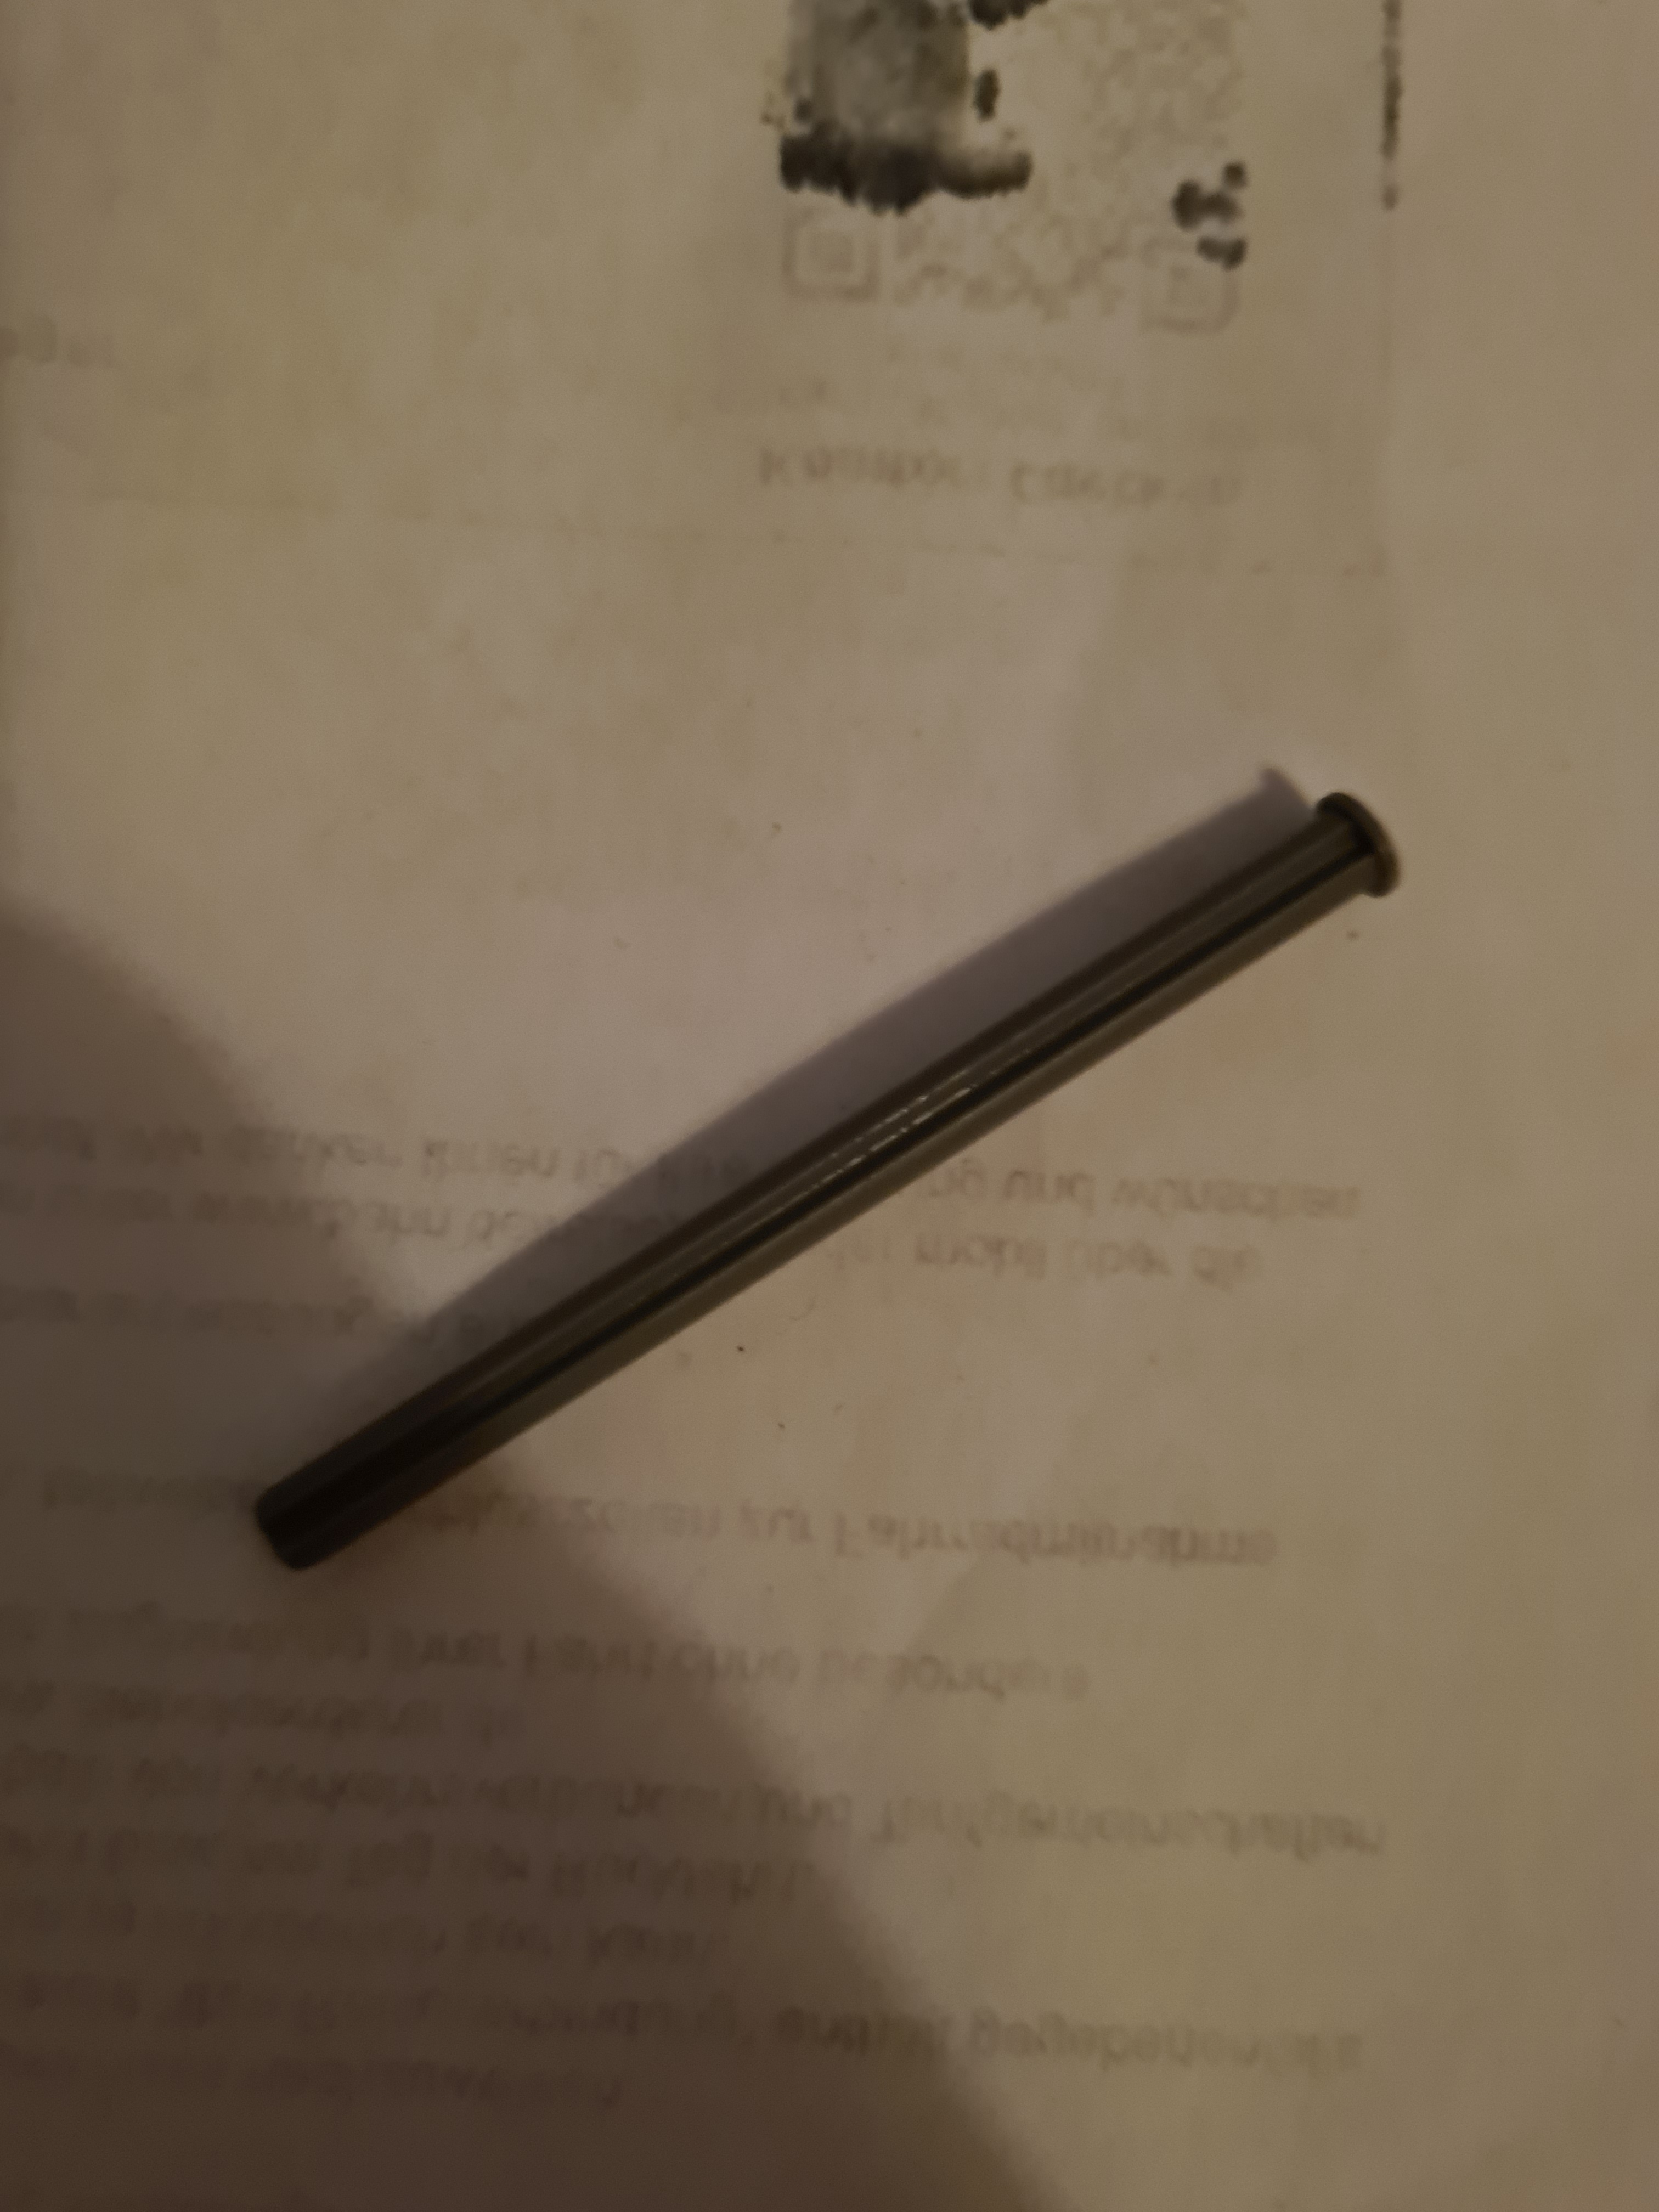Grau_lang: (244, 786, 1417, 1581)
